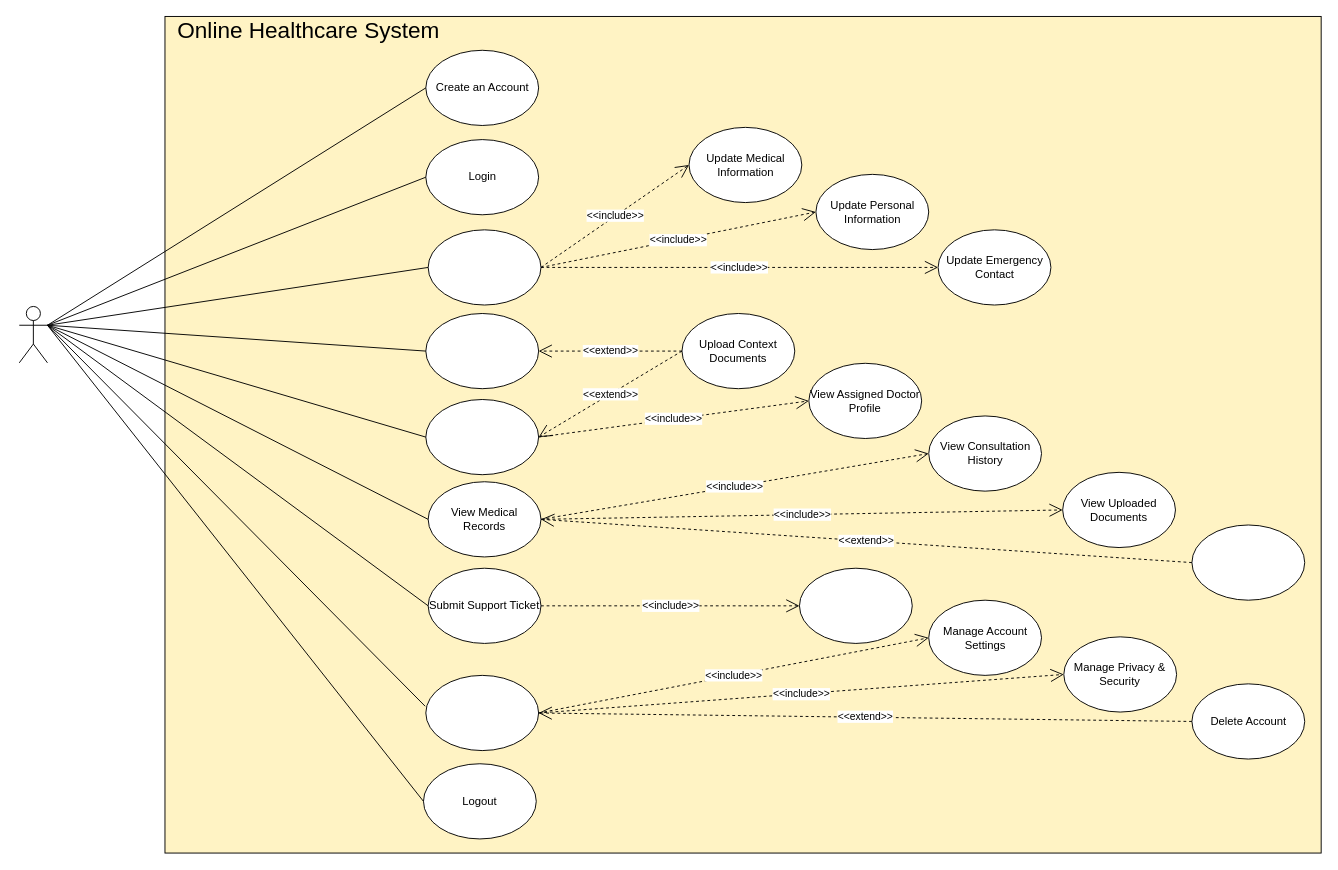
The diagram is 1338 pixels wide and 870 high, and some of its shapes have lost their labels. Here are the shapes that lost their labels. From the top down, the box of each, then its label:
(427, 229, 541, 305): Edit Profile
(18, 306, 47, 363): Patient
(425, 313, 539, 389): Consult with AI Assistant
(425, 399, 539, 475): Consult with Human Doctor
(1191, 524, 1305, 600): Export Medical Records
(799, 567, 912, 643): Describe Issue
(425, 674, 539, 751): Edit Settings
